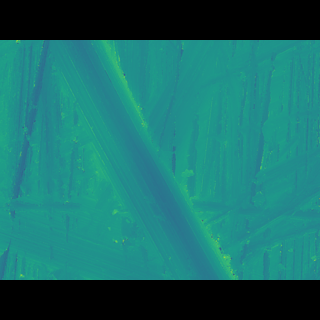Loch: (41, 69, 241, 250)
